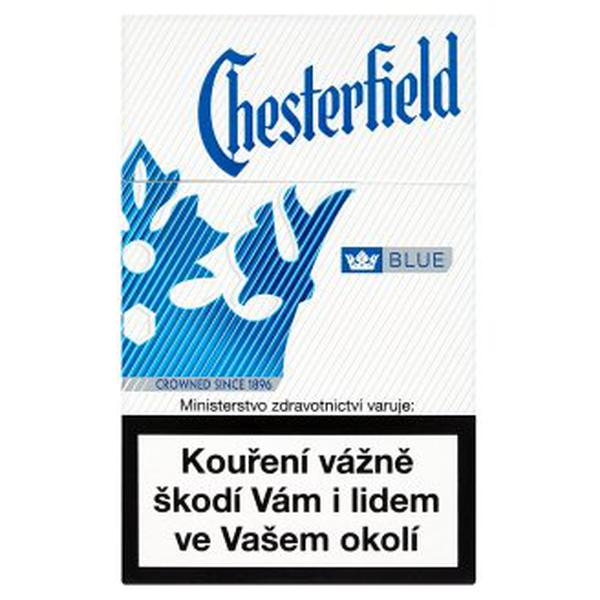chesterfield_blue: (120, 17, 477, 584)
